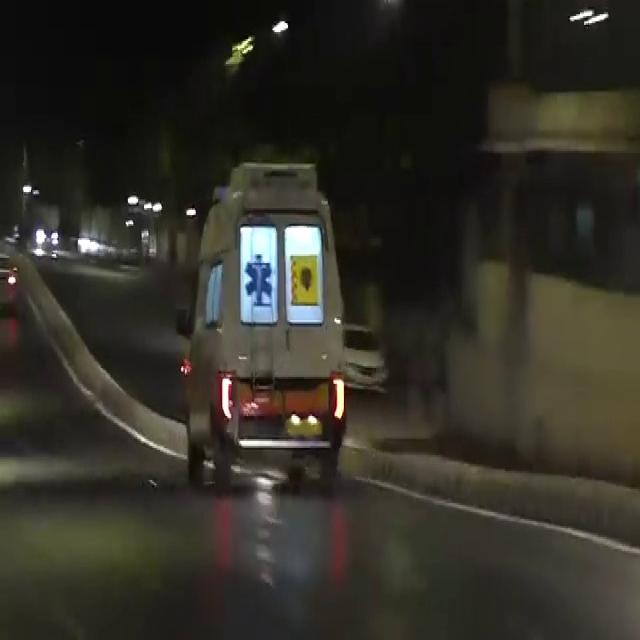ambulance: (192, 180, 356, 484)
